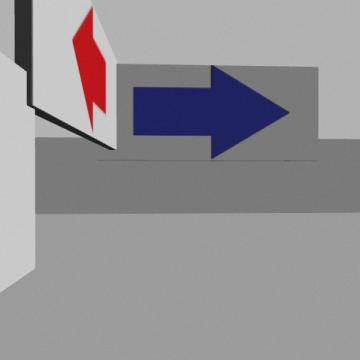blue_right: (133, 66, 289, 158)
red_left: (73, 8, 106, 130)
